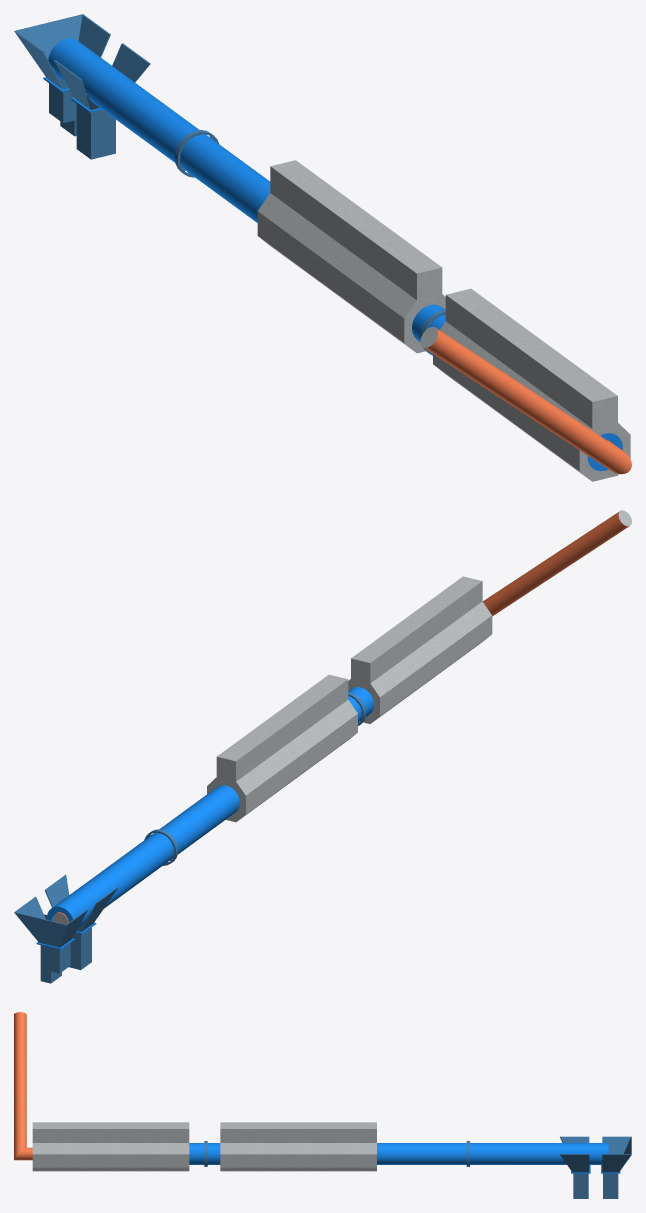
The model's file is 冷却桶.glb.
The picture shows the model from 3 angles, top to bottom: view 1: azimuth 30°, elevation 25°; view 2: azimuth 150°, elevation 25°; view 3: azimuth 270°, elevation 25°; orthographic projection. The views are drawn at different scales.
Parts seen in each view (by area): view 1: root; view 2: root; view 3: root.
Boxes of the visible parts, x1,y1,x2,y2 form: root: (14, 14, 631, 481); root: (14, 510, 631, 983); root: (14, 1012, 631, 1198).
Size of the model in its own units: 4.59 by 4.76 by 19.72.
Materials: 4 (1 with a texture image).
